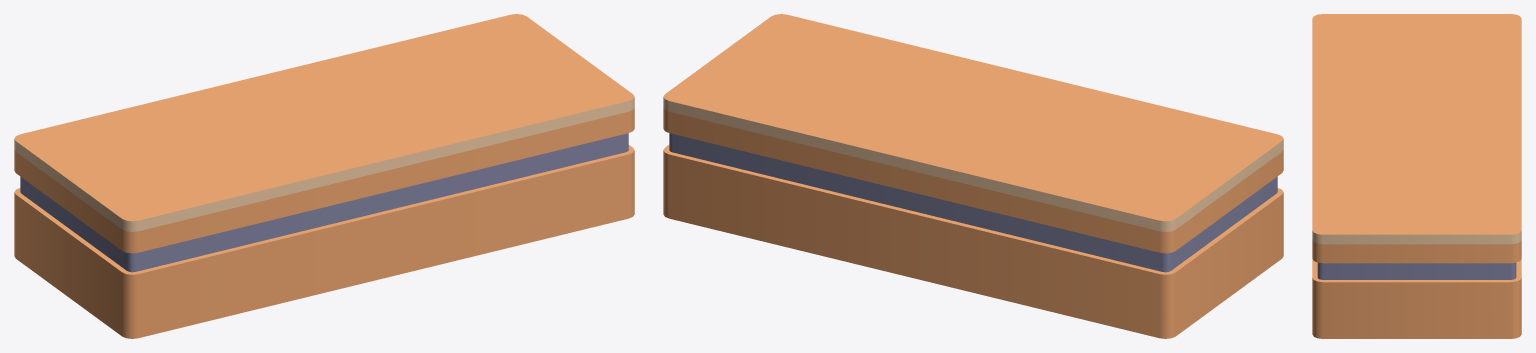
Rendered from planeRounded_2X5.fbx.
3 renders of one model, left to right at view 1: azimuth 30°, elevation 25°; view 2: azimuth 150°, elevation 25°; view 3: azimuth 270°, elevation 25°, orthographic. The views are drawn at different scales.
Visible parts, largest first — view 1: planeRounded.2X5, planeRounded.2X5.002, planeRounded.2X5.001; view 2: planeRounded.2X5, planeRounded.2X5.001, planeRounded.2X5.002; view 3: planeRounded.2X5.001, planeRounded.2X5.002, planeRounded.2X5.
Boxes of the visible parts, box(x1,y1,x2,y2) form: planeRounded.2X5: box(14, 108, 634, 338); planeRounded.2X5.002: box(69, 55, 634, 231); planeRounded.2X5.001: box(14, 14, 579, 190); planeRounded.2X5: box(663, 108, 1283, 338); planeRounded.2X5.001: box(663, 55, 1228, 231); planeRounded.2X5.002: box(718, 14, 1283, 190); planeRounded.2X5.001: box(1417, 14, 1521, 244); planeRounded.2X5.002: box(1312, 14, 1416, 244); planeRounded.2X5: box(1312, 240, 1521, 338).
Bounding box in the file's own units: 500 × 110 × 200.
